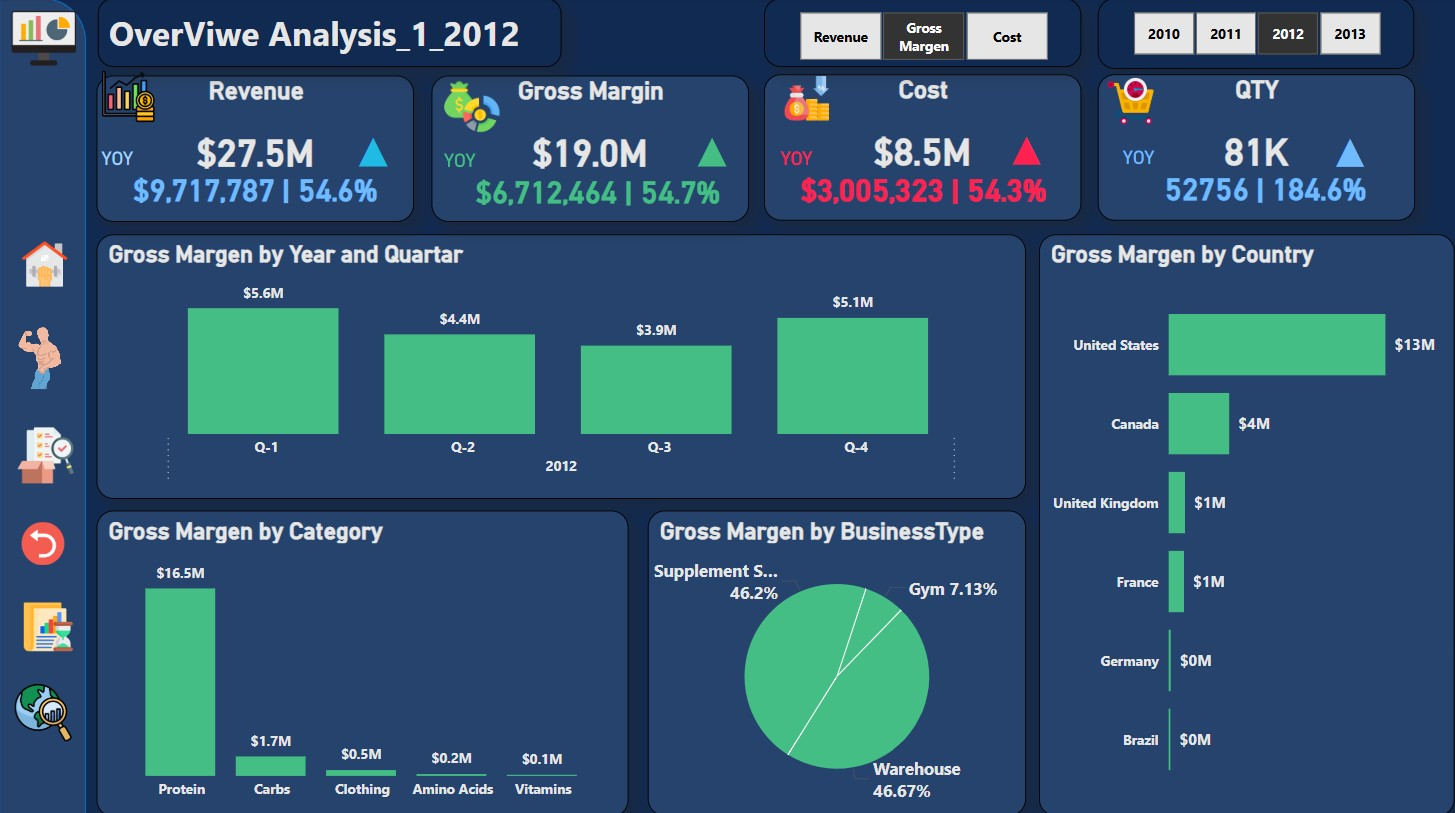

What the dashboard file says about the page in this screenshot:
{"tool":"powerbi","page":{"name":"Overviwe","canvas":[1280,720],"ordinal":1},"visuals":[{"type":"shape","box":[0,0,76.8,720.4],"z":0,"group":"g5"},{"type":"card","fields":{"Values":["Calculation.Revenue"]},"box":[1022.6,468.8,257.7,117.9],"z":0},{"type":"clusteredColumnChart","fields":{"Y":["Calculation.Revenue"],"Category":["dtbl_Calender.Year","dtbl_Calender.Quartar"]},"box":[87,207.6,816.8,233.7],"z":1000},{"type":"pieChart","fields":{"Y":["Calculation.Revenue"],"Category":["dtbl_Customers.BusinessType"]},"box":[570.7,451.2,332.9,268.6],"z":2000},{"type":"clusteredBarChart","fields":{"Y":["Calculation.Revenue"],"Category":["dtbl_Customers.CountryName"]},"box":[914.7,208.1,365.6,512.1],"z":3000},{"type":"clusteredColumnChart","fields":{"Y":["Calculation.Revenue"],"Category":["dtbl_Product.CategoryName"]},"box":[87,450,467.4,269.8],"z":4000},{"type":"slicer","fields":{"Values":["dtbl_Calender.Year"]},"box":[966.5,0,278.2,62.7],"z":5000},{"type":"slicer","fields":{"Values":["Parameter Time Analysis.Parameter Time Analysis"]},"box":[672.9,0,279.3,60.5],"z":6000},{"type":"actionButton","box":[86.9,0,407.9,60.5],"z":7000},{"type":"card","title":"Revenue","fields":{"Values":["Calculation.Revenue"]},"box":[86.2,68.4,279.3,128.7],"z":7000,"group":"g1"},{"type":"group","id":"g1","title":"Group 1","box":[84.5,56.1,282.1,141],"z":8000},{"type":"card","title":"Gross Margin","fields":{"Values":["Calculation.Gross Margen"]},"box":[379.9,68.5,279,128.7],"z":8000,"group":"g2"},{"type":"image","title":"dddd","box":[7.1,208.3,67,53],"z":8000,"group":"g5"},{"type":"group","id":"g2","title":"Group 2","box":[379.9,61.6,288.3,135.6],"z":9000},{"type":"card","title":"QTY","fields":{"Values":["Calculation.QTY"]},"box":[966.5,66.6,279,128.7],"z":9000,"group":"g4"},{"type":"image","box":[2.3,285.3,67,64],"z":9000,"group":"g5"},{"type":"group","id":"g3","title":"Group 3","box":[673.2,62.7,279,132.7],"z":10000},{"type":"card","title":"Cost","fields":{"Values":["Calculation.Cost"]},"box":[673.2,66.6,279,128.7],"z":10000,"group":"g3"},{"type":"image","box":[3.6,373.3,75,59],"z":10000,"group":"g5"},{"type":"group","id":"g4","title":"Group 4","box":[966.5,62.7,279,132.7],"z":11000},{"type":"card","fields":{"Values":["Time Analysis.VAR VALUE+%REVE"]},"box":[84.5,130.9,282.1,54.8],"z":11000,"group":"g1"},{"type":"image","box":[5.5,456.2,66,47],"z":11000,"group":"g5"},{"type":"group","id":"g5","title":"Group 5","box":[0,0,80.8,720.4],"z":12000},{"type":"card","fields":{"Values":["Time Analysis.VAR VALUE+% GM"]},"box":[386.1,132.8,282.1,54.8],"z":12000,"group":"g2"},{"type":"image","box":[6.8,527.2,74,53],"z":12000,"group":"g5"},{"type":"card","fields":{"Values":["Time Analysis.VAR VALUE+% COST"]},"box":[682,131,263.1,55.3],"z":13000,"group":"g3"},{"type":"image","box":[0,597.3,77.9,63.2],"z":13000,"group":"g5"},{"type":"image","box":[2.4,2.4,73.8,66.7],"z":14000,"group":"g5"},{"type":"card","fields":{"Values":["Time Analysis.VAR VALUE+% QTY"]},"box":[983.5,129.9,262,55.3],"z":14000,"group":"g4"},{"type":"card","fields":{"Values":["Calculation.ARROW REVE"]},"box":[304.7,115.4,50,38.1],"z":16000,"group":"g1"},{"type":"card","fields":{"Values":["Calculation.ARROW QTY"]},"box":[1163,116.3,50.8,37.3],"z":17000,"group":"g4"},{"type":"card","fields":{"Values":["Calculation.ARROW GM"]},"box":[602.4,115.5,50,38.1],"z":18000,"group":"g2"},{"type":"card","fields":{"Values":["Calculation.ARROW COST"]},"box":[878.4,115.2,50.8,36.1],"z":19000,"group":"g3"},{"type":"image","box":[385.9,61.6,60.5,68.2],"z":20000,"group":"g2"},{"type":"image","box":[681.7,62.7,58.3,51.7],"z":21000,"group":"g3"},{"type":"image","box":[86.2,56.1,56.1,60.2],"z":22000,"group":"g1"},{"type":"image","box":[966.5,62.7,58.3,56.1],"z":23000,"group":"g4"}]}

Visuals, with their boxes on the page's 1280x720 design canvas (x1, y1, x2, y2). These are canvas units, not pixel positions in the 1455x813 screenshot, which may show the page scaled, cropped or inside an application window:
shape: 0, 0, 77, 720
card - Calculation.Revenue: 1023, 469, 1280, 587
clusteredColumnChart - Calculation.Revenue x dtbl_Calender.Year: 87, 208, 904, 441
pieChart - Calculation.Revenue x dtbl_Customers.BusinessType: 571, 451, 904, 720
clusteredBarChart - Calculation.Revenue x dtbl_Customers.CountryName: 915, 208, 1280, 720
clusteredColumnChart - Calculation.Revenue x dtbl_Product.CategoryName: 87, 450, 554, 720
slicer - dtbl_Calender.Year: 966, 0, 1245, 63
slicer - Parameter Time Analysis.Parameter Time Analysis: 673, 0, 952, 60
actionButton: 87, 0, 495, 60
"Revenue" card: 86, 68, 366, 197
"Group 1" group: 84, 56, 367, 197
"Gross Margin" card: 380, 68, 659, 197
"dddd" image: 7, 208, 74, 261
"Group 2" group: 380, 62, 668, 197
"QTY" card: 966, 67, 1246, 195
image: 2, 285, 69, 349
"Group 3" group: 673, 63, 952, 195
"Cost" card: 673, 67, 952, 195
image: 4, 373, 79, 432
"Group 4" group: 966, 63, 1246, 195
card - Time Analysis.VAR VALUE+%REVE: 84, 131, 367, 186
image: 6, 456, 72, 503
"Group 5" group: 0, 0, 81, 720
card - Time Analysis.VAR VALUE+% GM: 386, 133, 668, 188
image: 7, 527, 81, 580
card - Time Analysis.VAR VALUE+% COST: 682, 131, 945, 186
image: 0, 597, 78, 660
image: 2, 2, 76, 69
card - Time Analysis.VAR VALUE+% QTY: 984, 130, 1246, 185
card - Calculation.ARROW REVE: 305, 115, 355, 154
card - Calculation.ARROW QTY: 1163, 116, 1214, 154
card - Calculation.ARROW GM: 602, 116, 652, 154
card - Calculation.ARROW COST: 878, 115, 929, 151
image: 386, 62, 446, 130
image: 682, 63, 740, 114
image: 86, 56, 142, 116
image: 966, 63, 1025, 119
